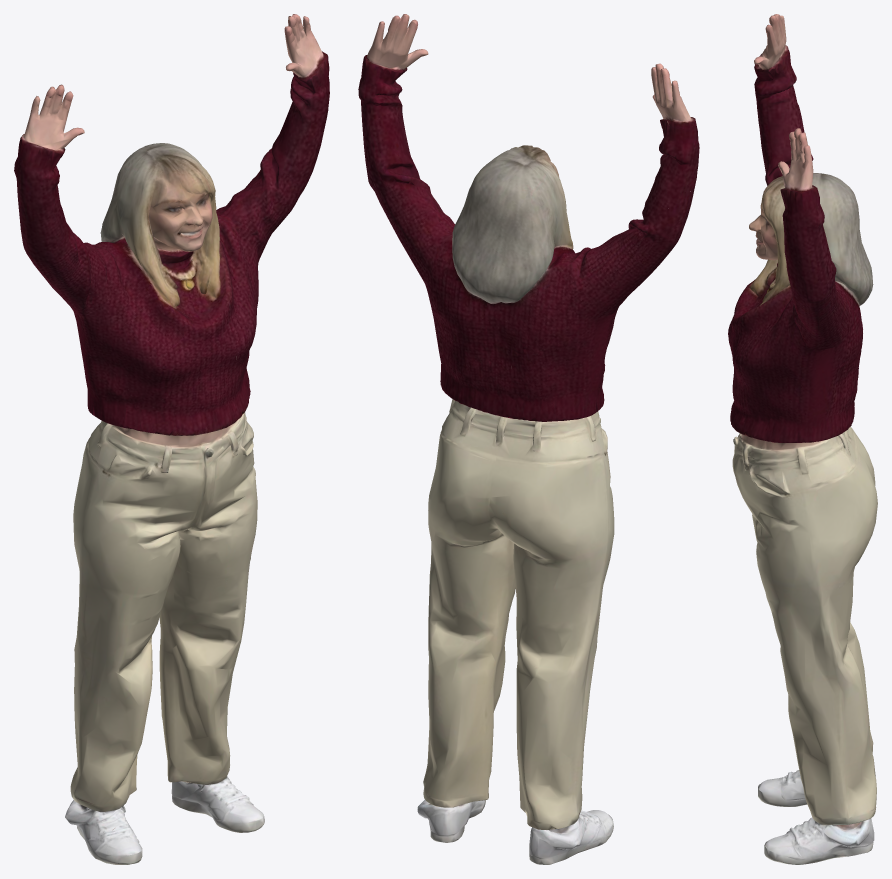
The model's file is hollie.glb.
3 views of the same model, side by side, from view 1: azimuth 30°, elevation 25°; view 2: azimuth 150°, elevation 25°; view 3: azimuth 270°, elevation 25° (orthographic). The views are drawn at different scales.
Visible parts, largest first — view 1: model; view 2: model; view 3: model.
Part boxes in pixels (x1,y1,x2,y2): model: (14,14,329,864); model: (358,14,699,864); model: (728,14,877,864).
Bounding box in the file's own units: 0.4176 × 0.9793 × 0.1765.
1 material, 1 textured.
